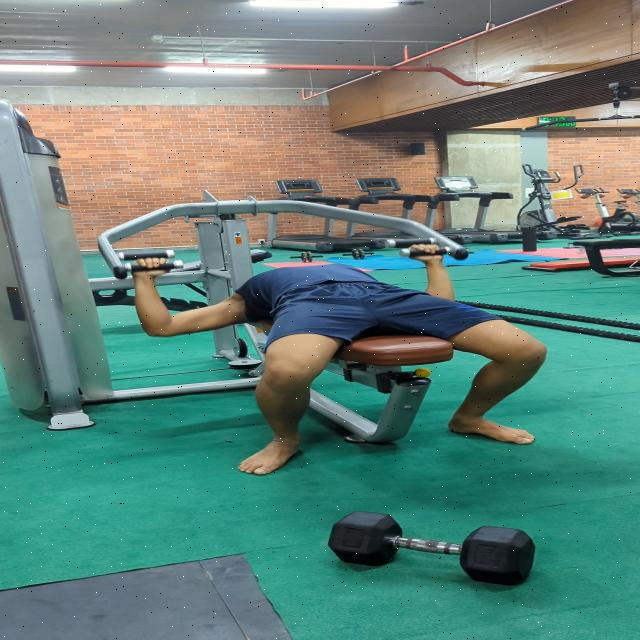Normal_BrenchPress: (107, 181, 608, 480)
